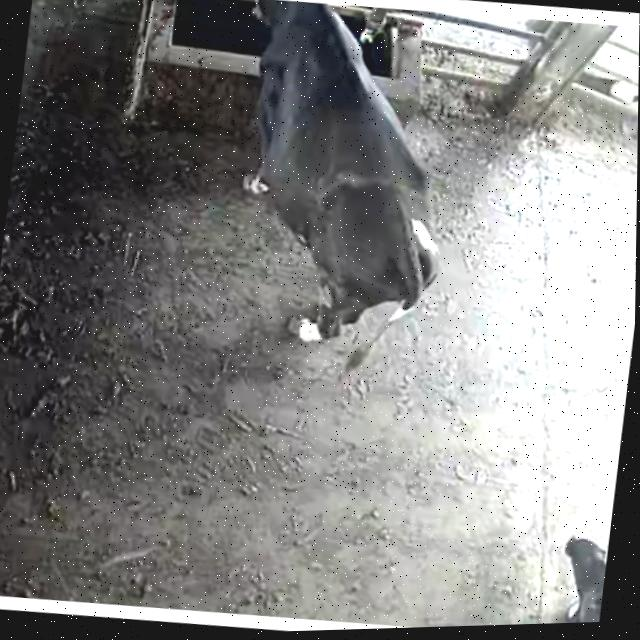drink: (198, 0, 403, 137)
